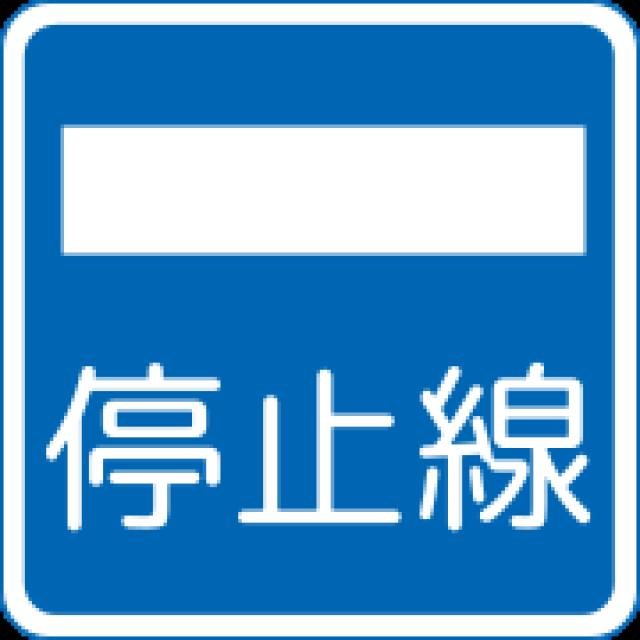Traffic sign: (14, 10, 620, 627)
